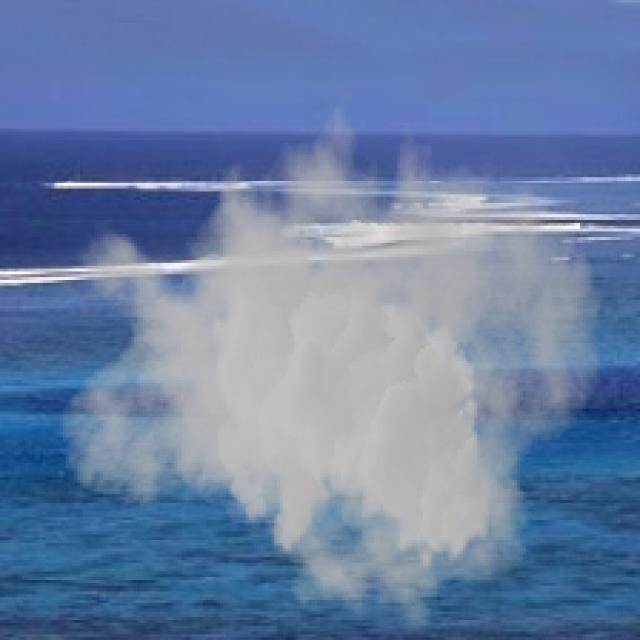Smoke: (57, 79, 603, 632)
